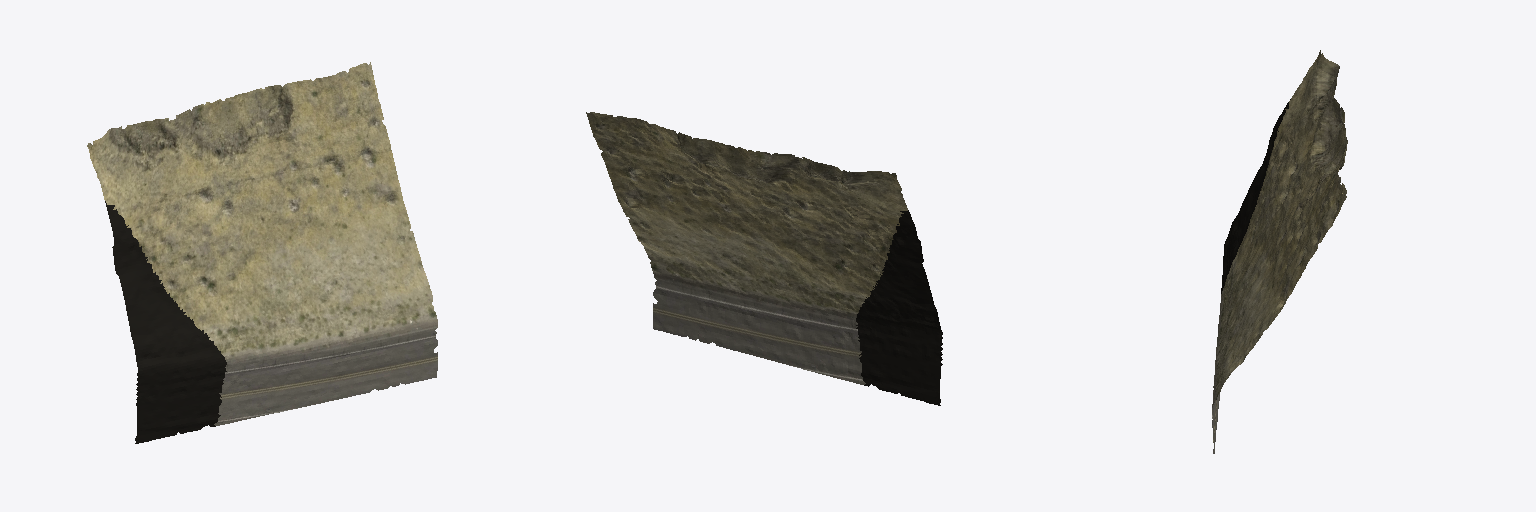
3 renders of one model, left to right at view 1: azimuth 30°, elevation 25°; view 2: azimuth 150°, elevation 25°; view 3: azimuth 270°, elevation 25°, orthographic.
Bounding box in the file's own units: 1.97 × 1.69 × 0.7818.
Materials: 1 (1 with a texture image).